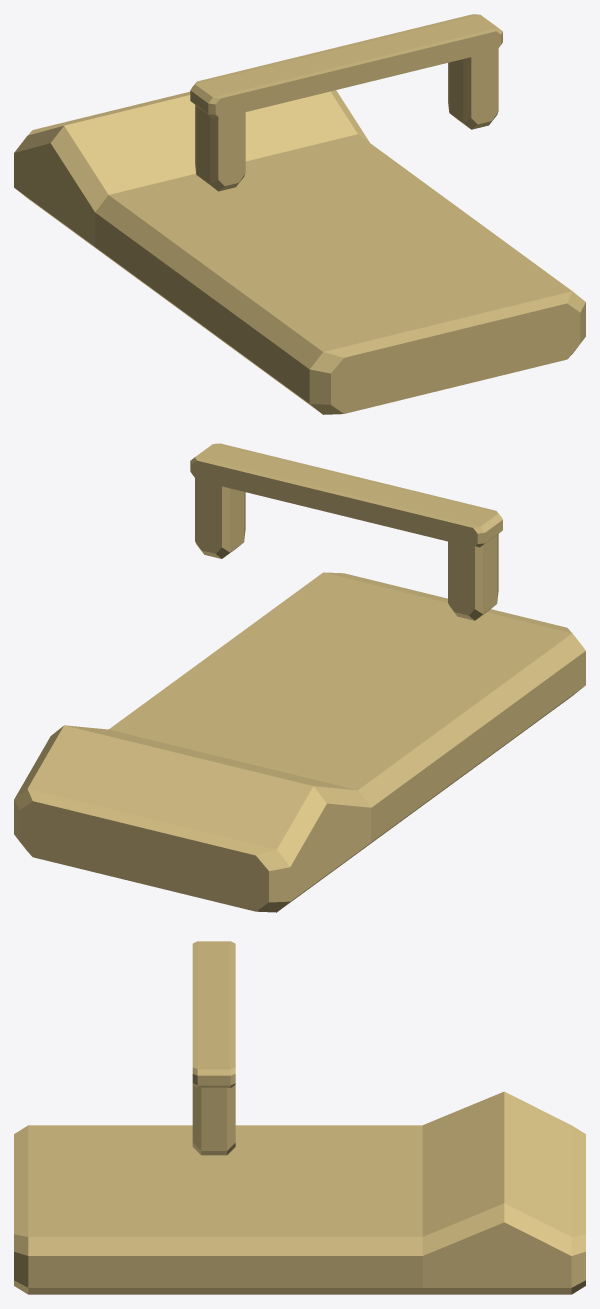
File: tallow_oddball_a.glb
The picture shows the model from 3 angles, top to bottom: view 1: azimuth 30°, elevation 25°; view 2: azimuth 150°, elevation 25°; view 3: azimuth 270°, elevation 25°; orthographic projection. The views are drawn at different scales.
Visible parts, largest first — view 1: tallow_oddball_a; view 2: tallow_oddball_a; view 3: tallow_oddball_a.
Boxes of the visible parts, x1,y1,x2,y2 form: tallow_oddball_a: [14, 14, 585, 414]; tallow_oddball_a: [14, 443, 585, 912]; tallow_oddball_a: [14, 941, 585, 1294].
Bounding box in the file's own units: 4.1 × 3.38 × 7.5.
